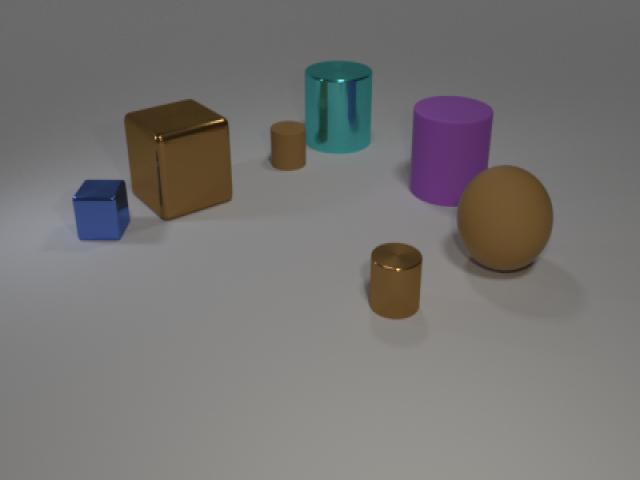cylinder: (405, 88, 497, 210), (298, 54, 378, 158), (362, 234, 428, 322), (264, 112, 310, 176)
round ball: (448, 156, 561, 278)
